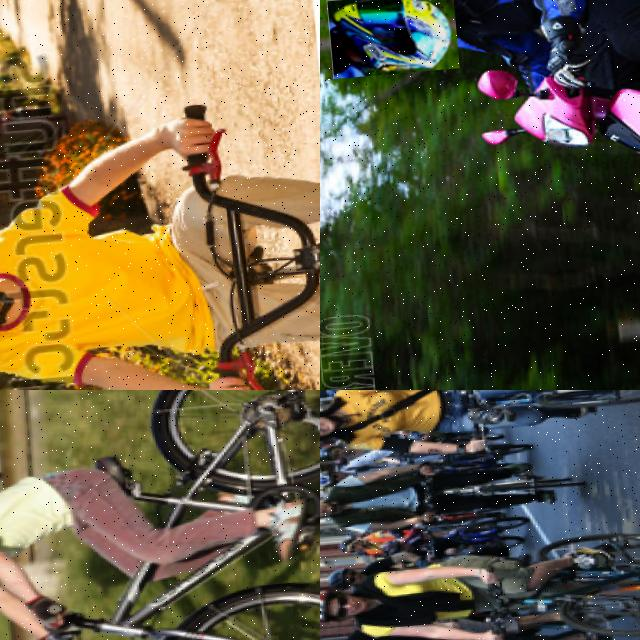helmet: (326, 0, 459, 77), (322, 566, 350, 592), (320, 587, 338, 622)
